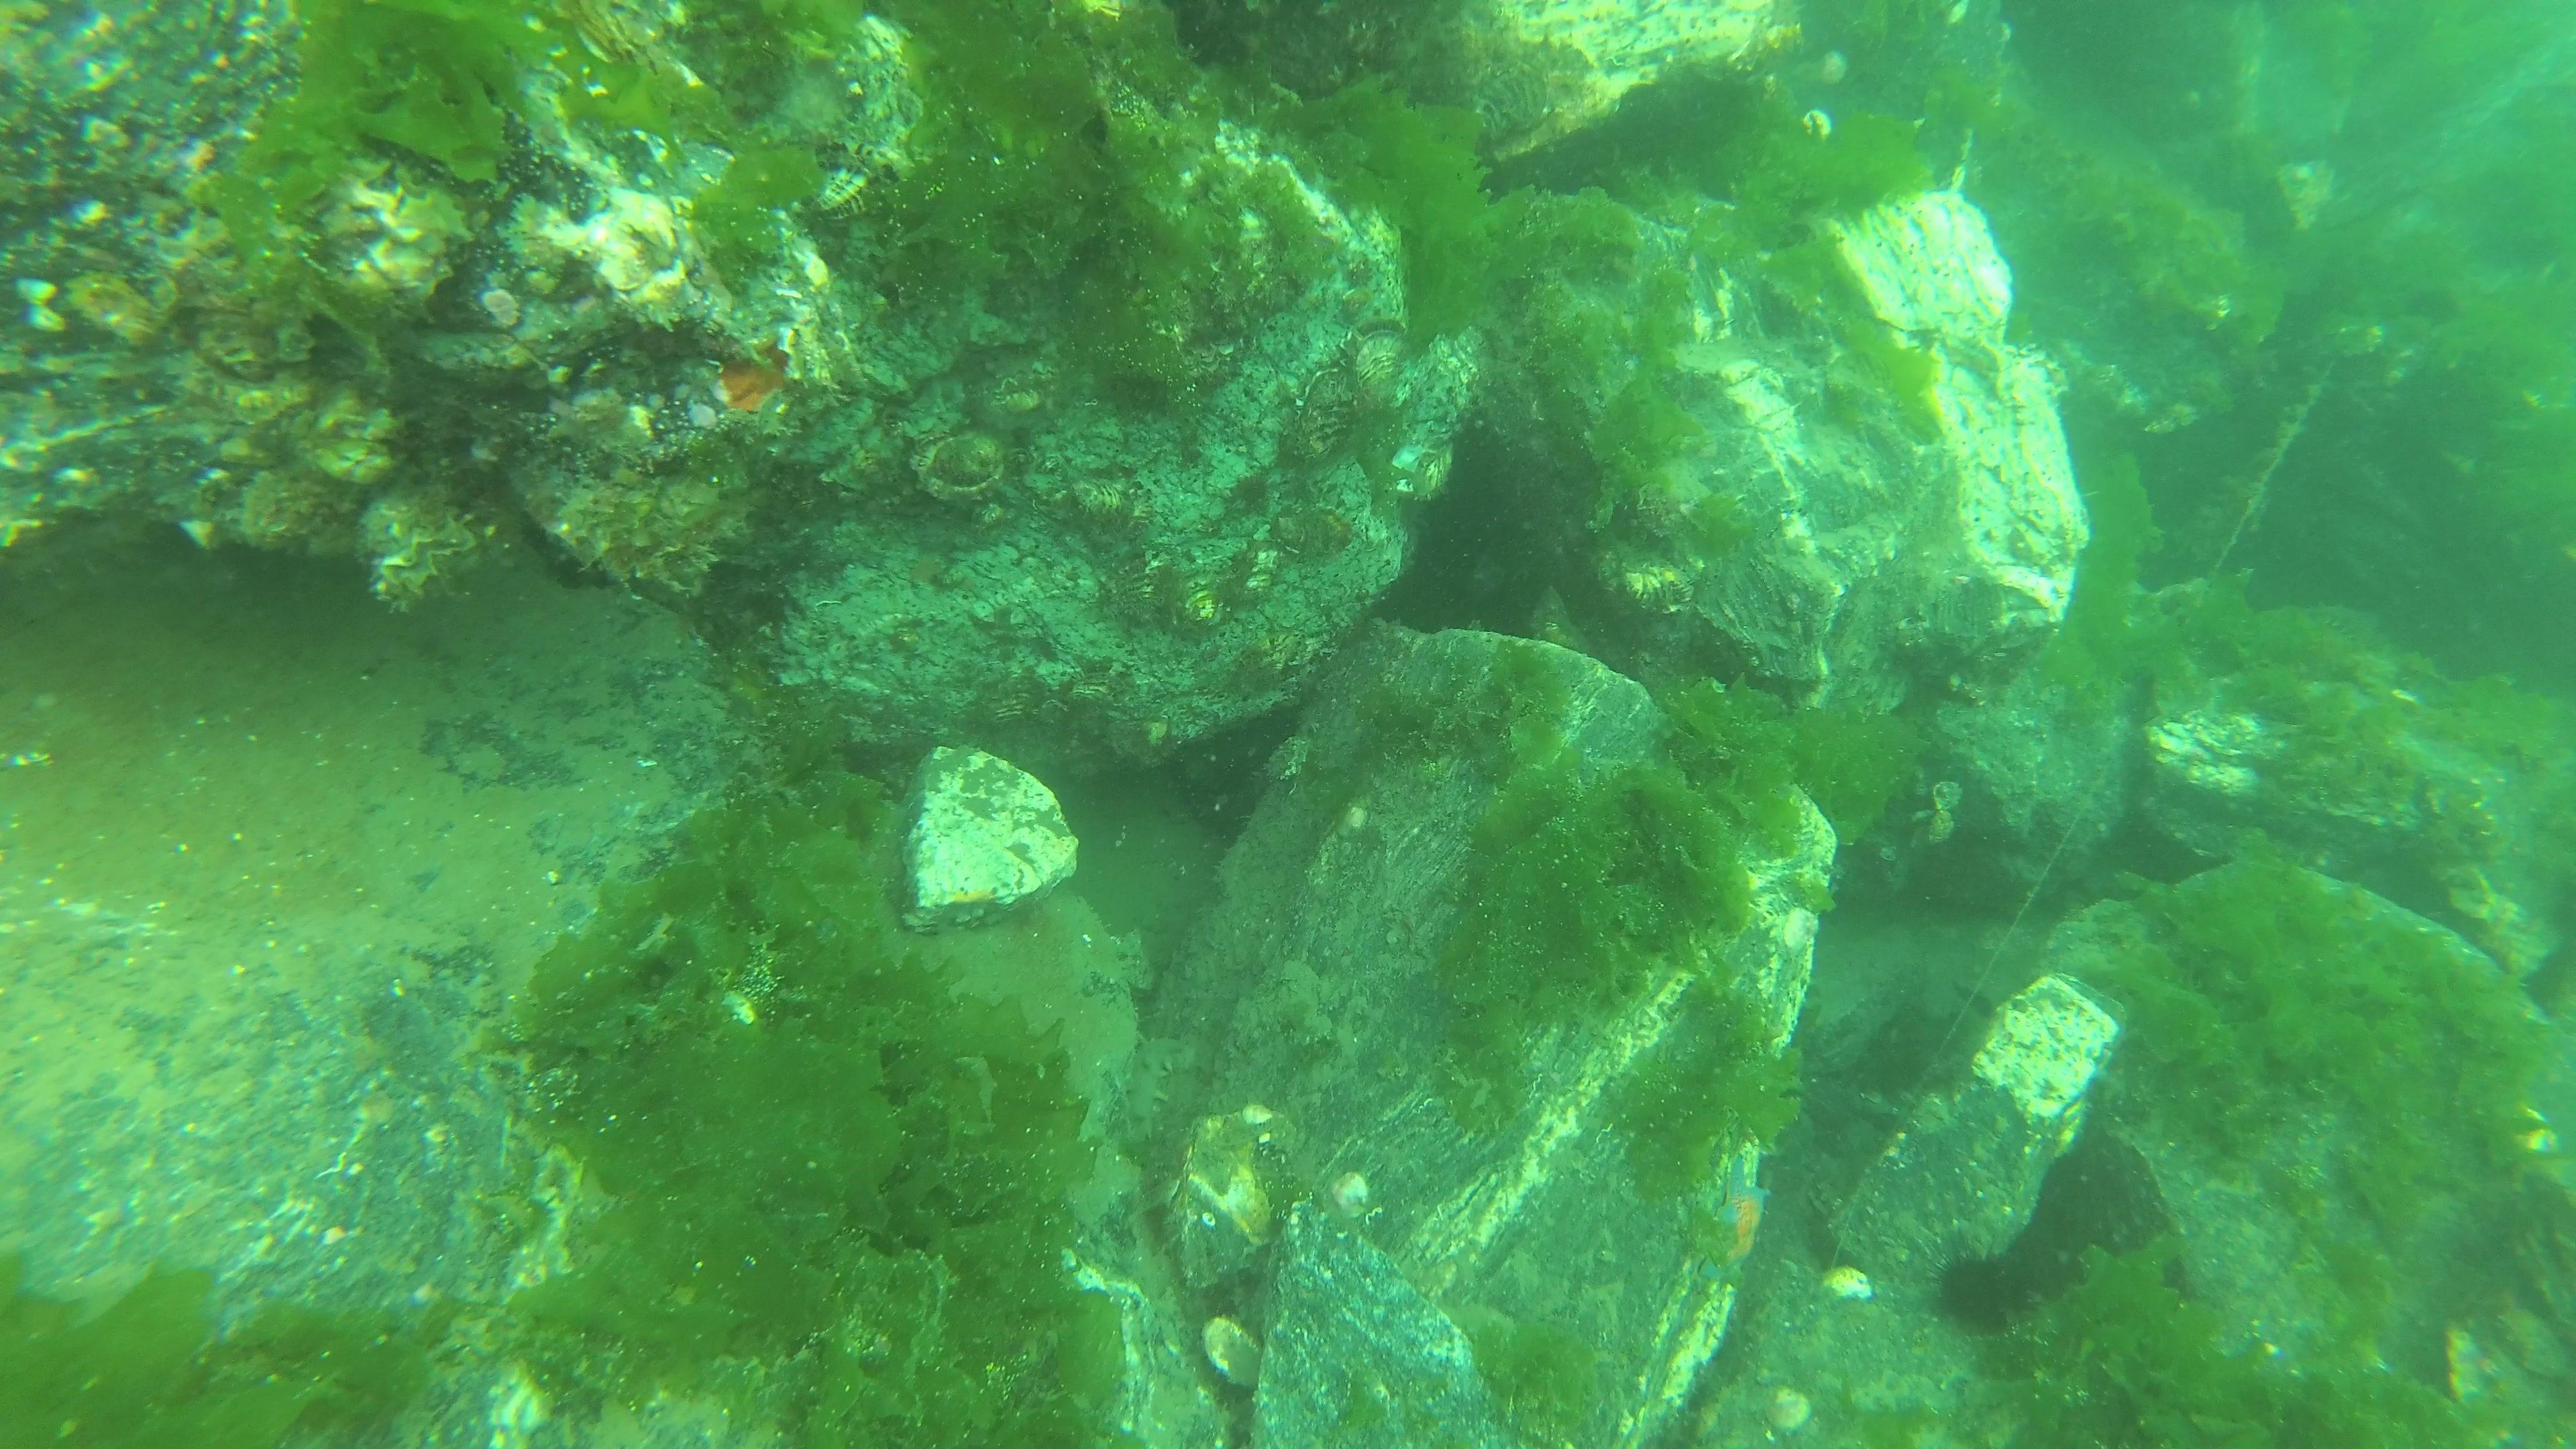echinus: (1937, 1244, 2019, 1332)
starfish: (1720, 1162, 1769, 1263)
